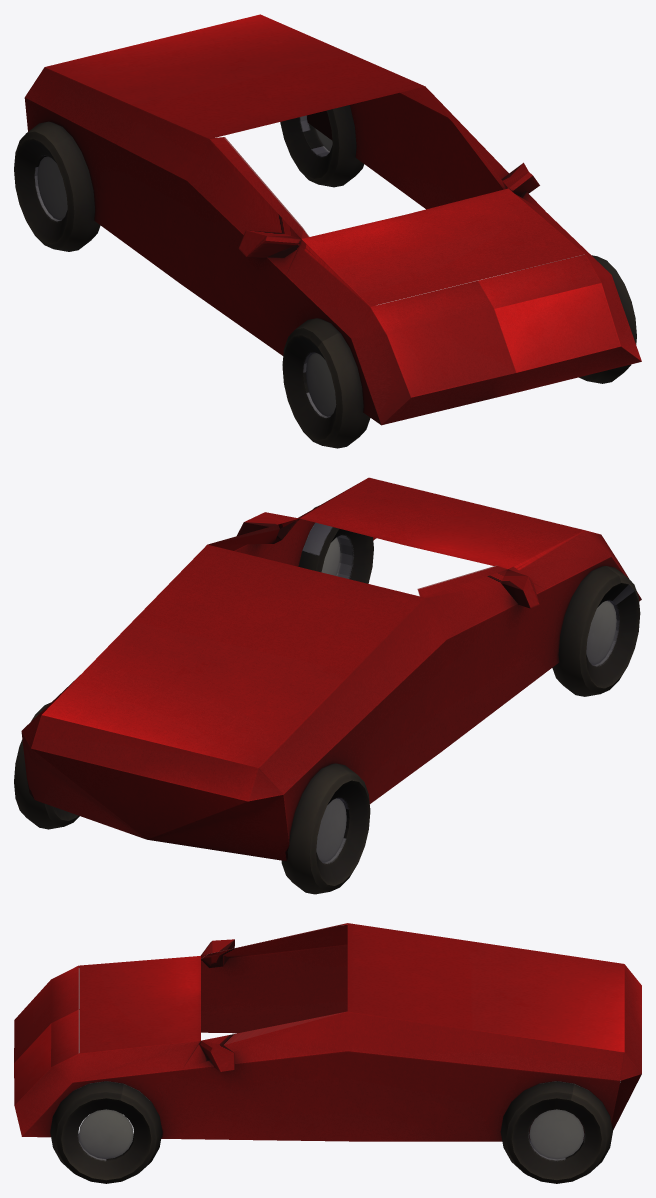
File: car_new_textures.fbx
3 renders of one model, top to bottom at view 1: azimuth 30°, elevation 25°; view 2: azimuth 150°, elevation 25°; view 3: azimuth 270°, elevation 25°, orthographic. The views are drawn at different scales.
Parts seen in each view (by area): view 1: car_geo1, pCylinder3 (×2), pCylinder2 (×2); view 2: car_geo1, pCylinder3 (×2), pCylinder2 (×2); view 3: car_geo1, pCylinder2 (×2).
Part boxes in pixels (x1=…): car_geo1: x1=24, y1=14, x2=641, y2=425; pCylinder3 (×2): x1=14, y1=121, x2=370, y2=448; pCylinder2 (×2): x1=280, y1=105, x2=636, y2=383; car_geo1: x1=21, y1=477, x2=641, y2=861; pCylinder3 (×2): x1=281, y1=566, x2=640, y2=894; pCylinder2 (×2): x1=14, y1=506, x2=373, y2=829; car_geo1: x1=14, y1=923, x2=641, y2=1141; pCylinder2 (×2): x1=50, y1=1081, x2=612, y2=1183.
Bounding box in the file's own units: 3.44 × 2.14 × 7.41.
2 materials, 2 textured.
